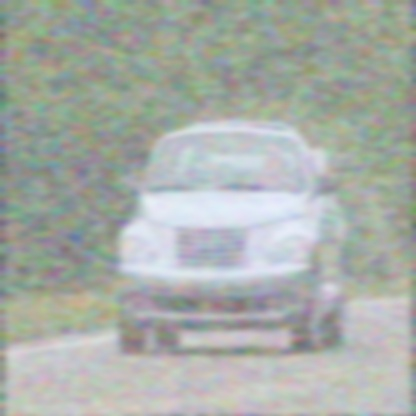Vehicle: (106, 114, 357, 362)
